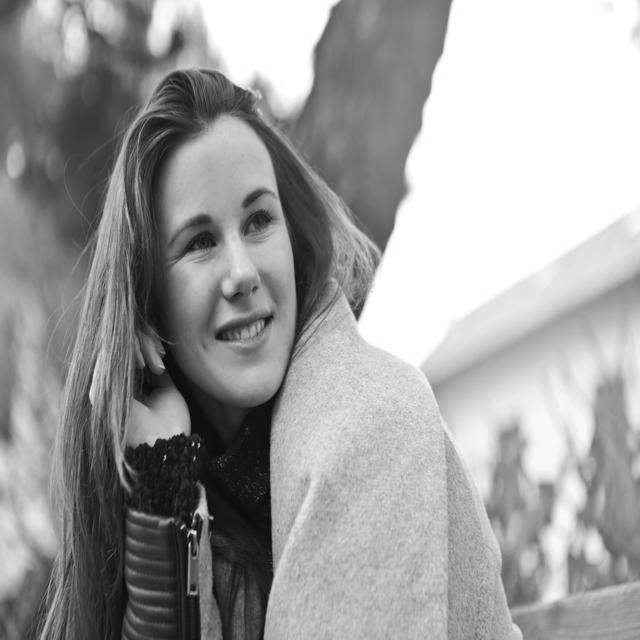Happiness: (148, 118, 304, 417)
